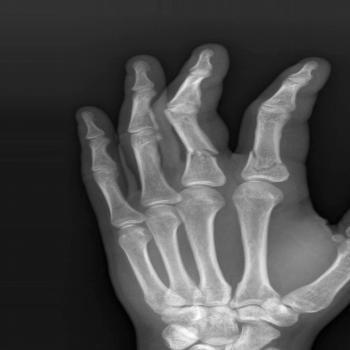Fracture: (241, 144, 297, 173), (177, 146, 228, 162)
